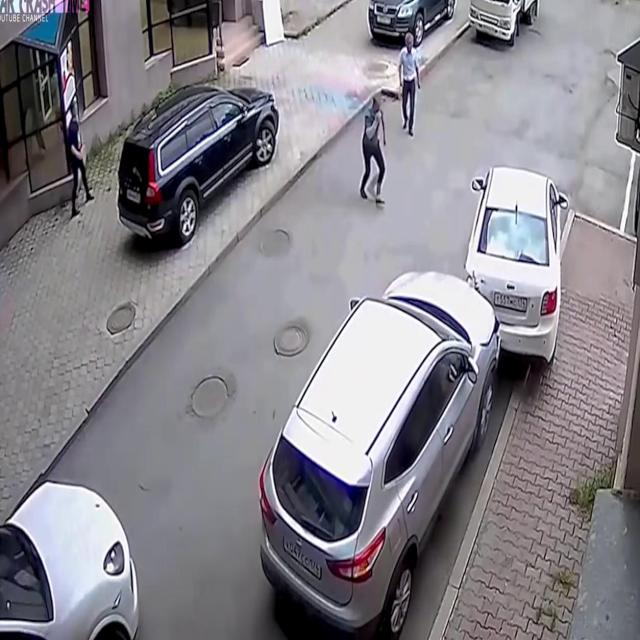accident: (253, 145, 571, 639)
